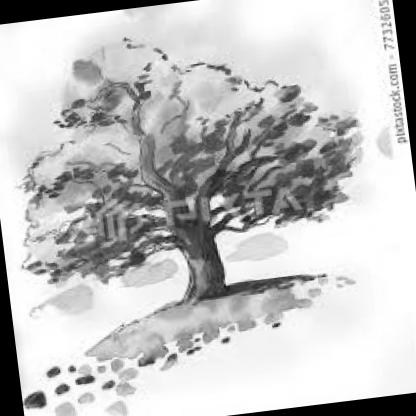root_none: (178, 278, 236, 318)
trunk_reflex: (174, 244, 228, 292)
